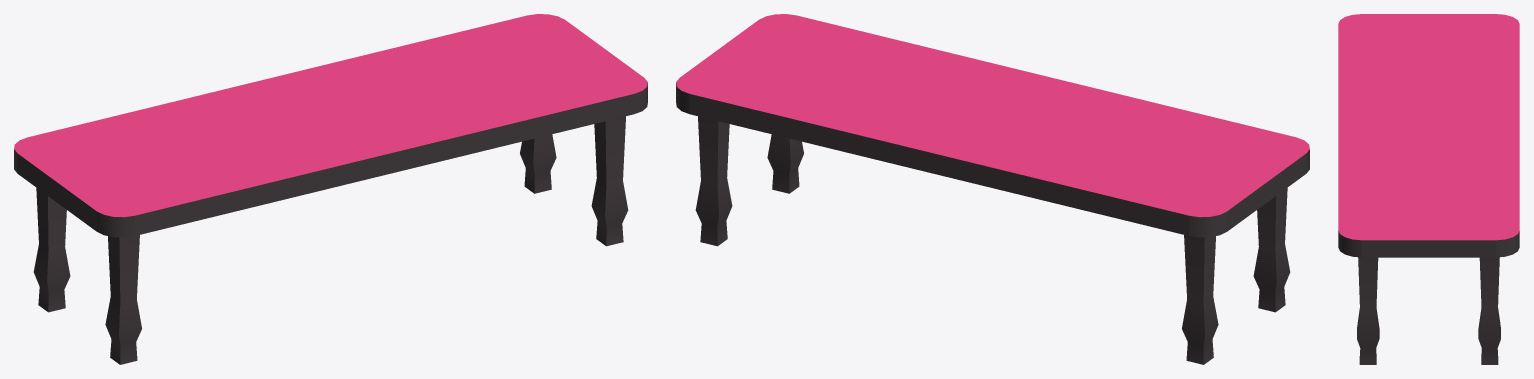
File: TableC4_geo.fbx
The picture shows the model from 3 angles, left to right: view 1: azimuth 30°, elevation 25°; view 2: azimuth 150°, elevation 25°; view 3: azimuth 270°, elevation 25°; orthographic projection. The views are drawn at different scales.
Visible parts, largest first — view 1: TableC4_geo; view 2: TableC4_geo; view 3: TableC4_geo.
Boxes of the visible parts, x1,y1,x2,y2 form: TableC4_geo: [14, 14, 647, 364]; TableC4_geo: [676, 14, 1309, 364]; TableC4_geo: [1338, 14, 1519, 364].
Size of the model in its own units: 2.47 by 0.8367 by 0.681.
